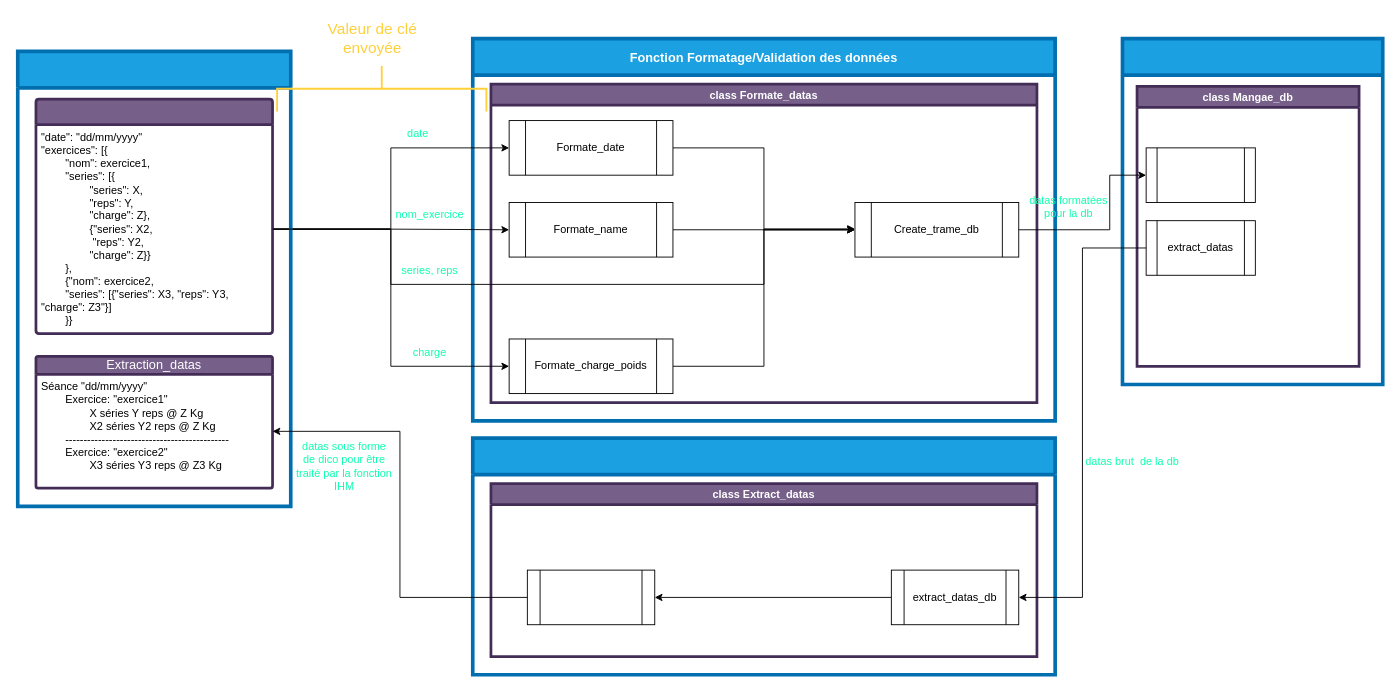
The diagram is 1400 pixels wide and 692 high, and some of its shapes have lost their labels. The shapes that lost their labels are listed below. From the top down, each one's box as (x1, y1, x2, y2) in pixels, then its label:
(1145, 147, 1255, 202): add_datas
(34, 97, 273, 334): DICO_USER
(1120, 36, 1384, 386): Fonction Gestion base de données
(15, 49, 292, 508): Fonction IHM
(470, 436, 1057, 676): Fonction Extraction des données
(526, 569, 655, 625): Formate_datas
